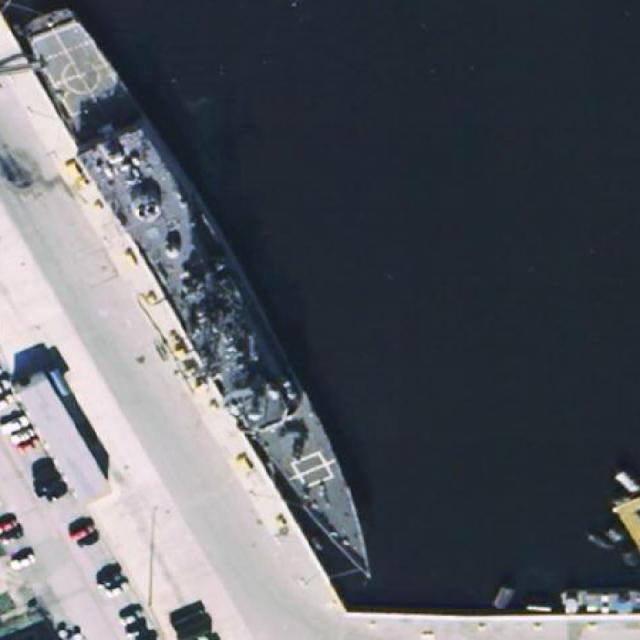Frigate: (19, 3, 403, 593)
